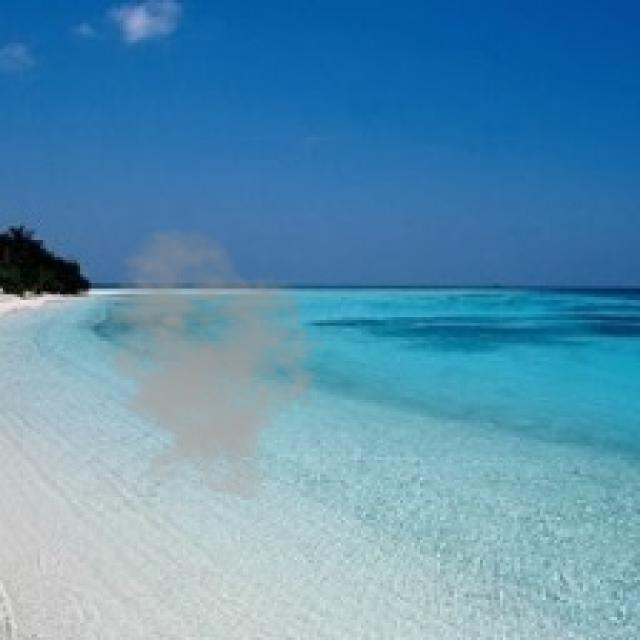smoke: (83, 226, 328, 503)
